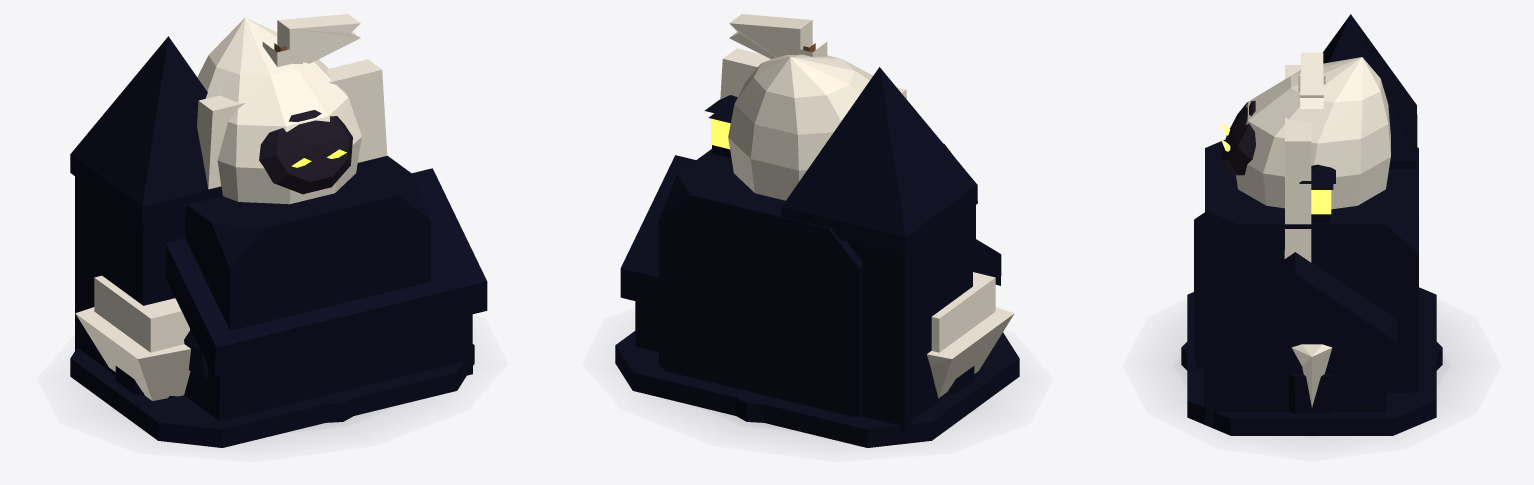
File: pieces.glb
3 renders of one model, left to right at view 1: azimuth 30°, elevation 25°; view 2: azimuth 150°, elevation 25°; view 3: azimuth 270°, elevation 25°, orthographic. The views are drawn at different scales.
Visible parts, largest first — view 1: city_outline, die_outline, pirate_outline, robber_outline, robber, settlement_outline, harbor_outline; view 2: city_outline, die_outline, robber_outline, pirate_outline, settlement_outline, harbor, harbor_outline; view 3: city_outline, die_outline, robber_outline, pirate_outline, robber, road_outline, harbor_outline, harbor, settlement_outline.
Part boxes in pixels (<box>): city_outline: <box>70,36,487,447</box>; die_outline: <box>185,156,430,330</box>; pirate_outline: <box>75,14,387,400</box>; robber_outline: <box>197,17,361,204</box>; robber: <box>259,110,352,194</box>; settlement_outline: <box>293,199,382,422</box>; harbor_outline: <box>184,331,207,399</box>; city_outline: <box>615,67,1019,447</box>; die_outline: <box>659,144,975,416</box>; robber_outline: <box>728,54,872,200</box>; pirate_outline: <box>720,14,1014,398</box>; settlement_outline: <box>707,199,811,422</box>; harbor: <box>708,113,731,149</box>; harbor_outline: <box>704,95,737,158</box>; city_outline: <box>1187,14,1436,435</box>; die_outline: <box>1205,140,1418,392</box>; robber_outline: <box>1236,57,1390,209</box>; pirate_outline: <box>1284,52,1332,407</box>; robber: <box>1221,100,1255,176</box>; road_outline: <box>1288,374,1335,413</box>; harbor_outline: <box>1299,164,1335,222</box>; harbor: <box>1311,184,1333,214</box>; settlement_outline: <box>1181,179,1442,370</box>.
Bounding box in the file's own units: 0.9 × 0.6373 × 0.75.
